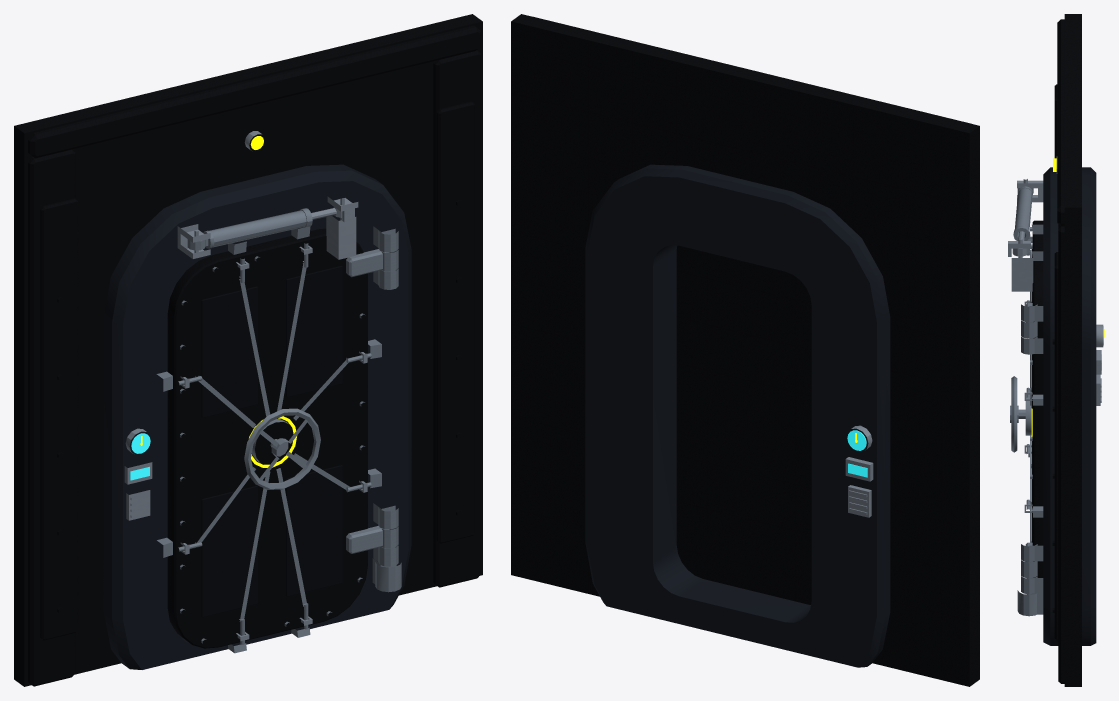
The model's file is door_lab_bulkhead_hatch.glb.
3 renders of one model, left to right at view 1: azimuth 30°, elevation 25°; view 2: azimuth 150°, elevation 25°; view 3: azimuth 270°, elevation 25°, orthographic. The views are drawn at different scales.
Parts seen in each view (by area): view 1: frame, frame_collar, leaf_shell, leaf_panels, hinge_frame, dog_handwheel, leaf_hinge_straps, piston_body, leaf_damper_mount, dog_wedges, gauge_housing_front, latch_bolt_5 (+4 smaller); view 2: frame, frame_collar, leaf_shell, gauge_housing_back; view 3: frame, frame_collar, leaf_shell, hinge_frame, leaf_damper_mount, piston_body, dog_handwheel, leaf_hinge_straps, gauge_housing_back, dog_wedges, damper_mount, leaf_bolt_heads (+3 smaller).
Part boxes in pixels (box(x1,y1,x2,y2)): frame: box(14, 14, 482, 686); frame_collar: box(103, 164, 411, 669); leaf_shell: box(167, 228, 367, 648); leaf_panels: box(201, 266, 342, 617); hinge_frame: box(372, 226, 401, 592); dog_handwheel: box(244, 408, 320, 489); leaf_hinge_straps: box(346, 249, 398, 553); piston_body: box(187, 208, 312, 250); leaf_damper_mount: box(326, 196, 358, 259); dog_wedges: box(156, 227, 381, 653); gauge_housing_front: box(124, 428, 152, 520); latch_bolt_5: box(277, 243, 308, 411); frame: box(511, 14, 979, 686); frame_collar: box(585, 164, 890, 667); leaf_shell: box(676, 245, 811, 604); gauge_housing_back: box(845, 425, 873, 517); frame: box(1052, 14, 1081, 686); frame_collar: box(1043, 167, 1096, 645); leaf_shell: box(1032, 220, 1043, 577); hinge_frame: box(1017, 304, 1043, 616); leaf_damper_mount: box(1008, 239, 1033, 291); piston_body: box(1013, 186, 1033, 240); dog_handwheel: box(1010, 376, 1025, 452); leaf_hinge_straps: box(1021, 303, 1037, 578); gauge_housing_back: box(1096, 324, 1103, 405); dog_wedges: box(1031, 224, 1043, 517); damper_mount: box(1017, 179, 1043, 202); leaf_bolt_heads: box(1025, 227, 1032, 542).
Size of what is drawn, in the model's own units: 2.6 by 3 by 0.549.
9 materials, 5 textured.
